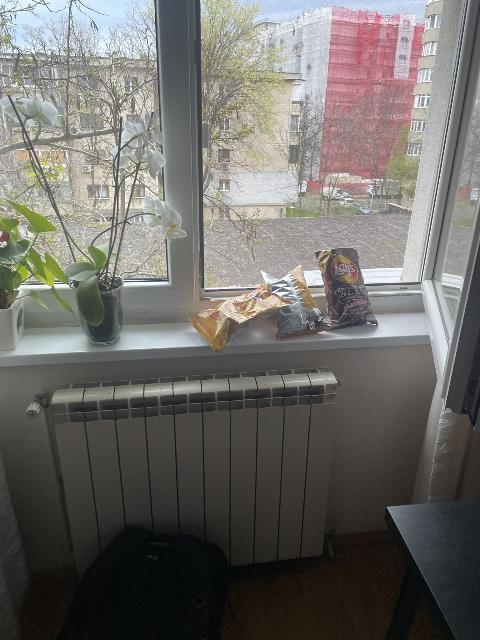Chio Cascaval 125g: (261, 266, 328, 338)
Chio Hula Hoops Cheese 70g: (194, 278, 287, 350)
Lays Beef Grilled Ribs 125g: (317, 247, 381, 330)
